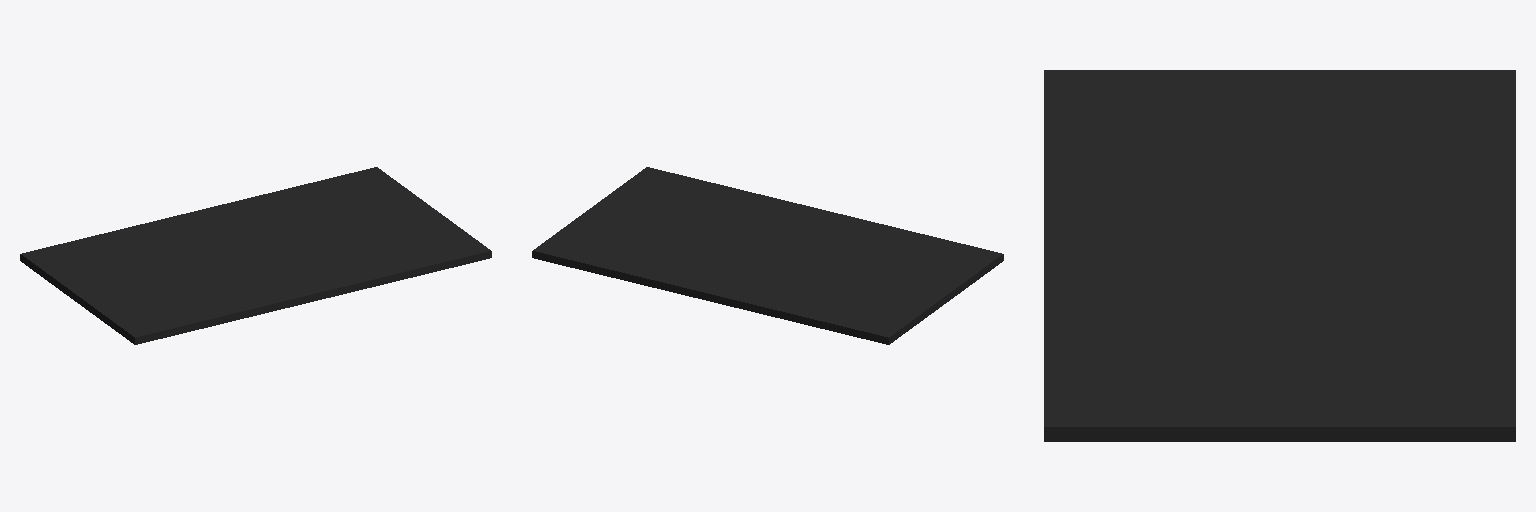
The robot description file, URDF, robot "mevi":

<!-- =================================================================================== -->
<!-- |    This document was autogenerated by xacro from mevi_body.urdf.xacro           | -->
<!-- |    EDITING THIS FILE BY HAND IS NOT RECOMMENDED                                 | -->
<!-- =================================================================================== -->
<!--
Created on Thu Jan 18 2024

@author: hifzhil
-->
<robot name="mevi">
  <!-- my name is Mevi-->
  <!-- wheel dimensions -->
  <!-- variable -->
  <material name="chassis_materials">
    <color rgba="0.2 0.2 0.2 1"/>
    <!-- grey -->
  </material>
  <material name="wheel_rubber">
    <color rgba="0 0 0 0"/>
    <!-- black -->
  </material>
  <material name="body_mesh">
    <color rgba="1 1 1 1"/>
    <!-- white -->
  </material>
  <link name="world">
    <visual>
      <origin rpy="0 0 0" xyz="0 0 0"/>
      <geometry>
        <box size="0.001 0.001 0.001"/>
      </geometry>
    </visual>
  </link>
  <joint name="world_to_vehicle_center" type="fixed">
    <parent link="world"/>
    <child link="chassis"/>
    <origin xyz="0.0 0.0 0.085"/>
    <axis xyz="0 0 1"/>
  </joint>
  <link name="chassis" type="fixed">
    <visual>
      <origin rpy="0 0 0" xyz="0 0 0"/>
      <geometry>
        <box size="1.49 0.83 0.03"/>
      </geometry>
      <material name="chassis_materials"/>
    </visual>
  </link>
</robot>

--- Facts derived from the render (not from the file) ---
The picture shows the robot from 3 angles, left to right: view 1: azimuth 30°, elevation 25°; view 2: azimuth 150°, elevation 25°; view 3: azimuth 270°, elevation 25°; orthographic projection.
Model mevi with 2 links and 1 joints (1 fixed), rooted at world, posed all joints at 0.
Links seen in each view (by area): view 1: chassis; view 2: chassis; view 3: chassis.
Link boxes in pixels (x1,y1,x2,y2): chassis: (20,167,491,344); chassis: (532,167,1003,344); chassis: (1044,70,1515,441).
Size in the robot's own frame: 1.49 by 0.83 by 0.1005 metres.
Geometry: primitives only (box / cylinder / sphere), no mesh files.
